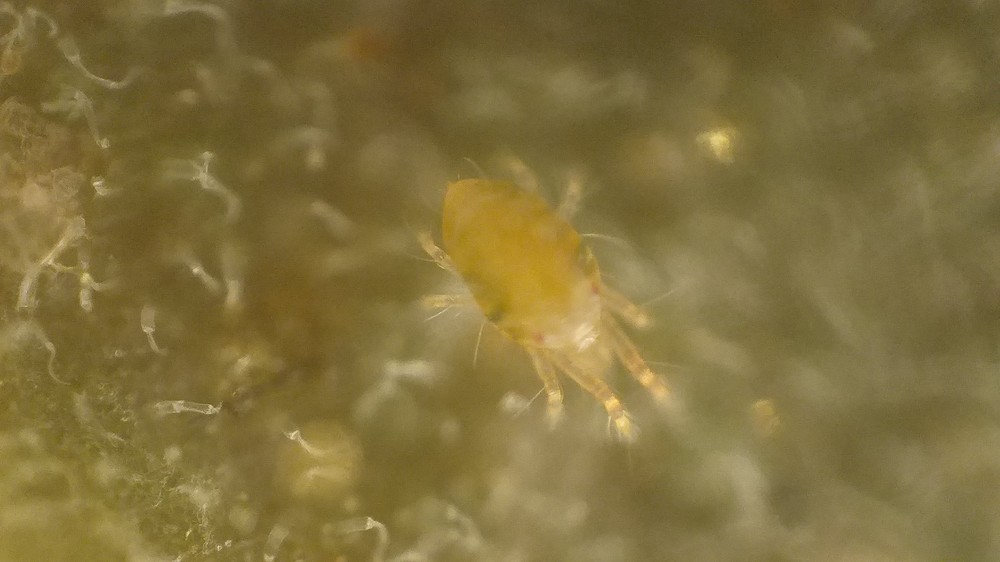Aracnido Rojo: (375, 145, 703, 468)
